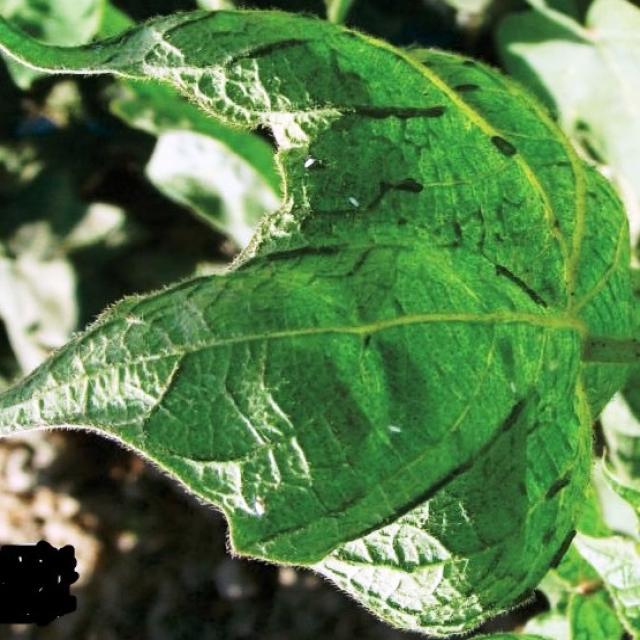Leaf Curl Virus: (83, 5, 513, 329)
